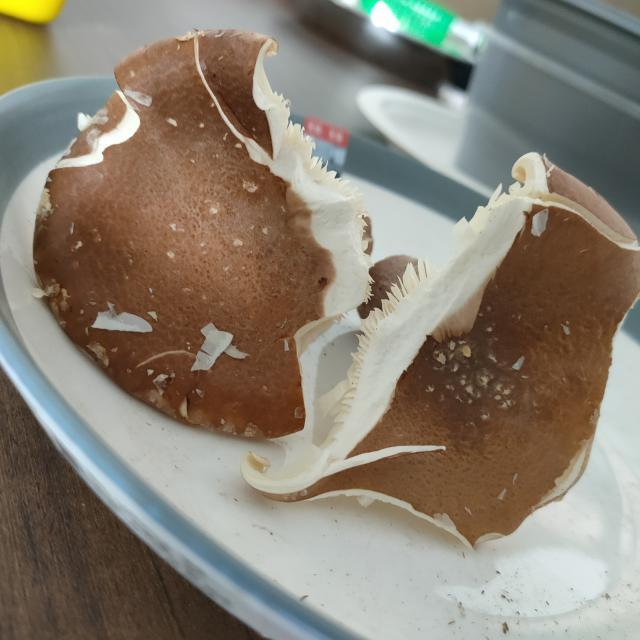Clitocybe maxima: (246, 152, 639, 548), (37, 31, 367, 437)
